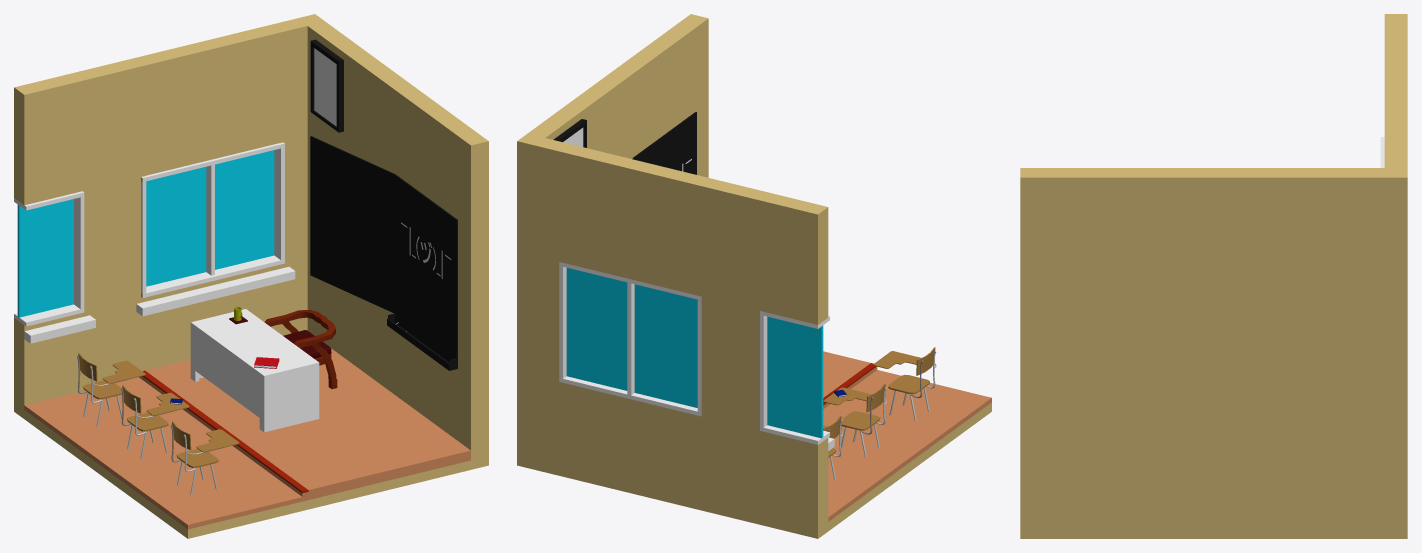
File: mulma.fbx
3 views of the same model, side by side, from view 1: azimuth 30°, elevation 25°; view 2: azimuth 150°, elevation 25°; view 3: azimuth 270°, elevation 25° (orthographic). The views are drawn at different scales.
Parts seen in each view (by area): view 1: paredes, carpete, quadro, Box025, mesa, Box026, parapeito2 (×2), Box028, cadeirap, cadeira, cadeira001, cadeira002; view 2: paredes, Box025, carpete, Box026, quadro, cadeira, cadeira002, Box028; view 3: paredes.
Boxes of the visible parts, bbox=[...] form: paredes: bbox=[14, 14, 488, 538]; carpete: bbox=[24, 348, 470, 529]; quadro: bbox=[310, 136, 457, 370]; Box025: bbox=[146, 150, 274, 286]; mesa: bbox=[190, 309, 319, 432]; Box026: bbox=[17, 199, 73, 317]; parapeito2 (×2): bbox=[24, 266, 295, 343]; Box028: bbox=[310, 39, 343, 132]; cadeirap: bbox=[264, 310, 337, 389]; cadeira: bbox=[170, 421, 239, 495]; cadeira001: bbox=[77, 353, 145, 426]; cadeira002: bbox=[120, 385, 189, 458]; paredes: bbox=[517, 14, 991, 538]; Box025: bbox=[566, 268, 697, 407]; carpete: bbox=[823, 351, 991, 521]; Box026: bbox=[767, 316, 823, 438]; quadro: bbox=[632, 112, 696, 174]; cadeira: bbox=[873, 347, 936, 421]; cadeira002: bbox=[823, 383, 886, 457]; Box028: bbox=[553, 119, 586, 147]; paredes: bbox=[1020, 14, 1407, 538].
Bounding box in the file's own units: 100 × 103 × 100.
